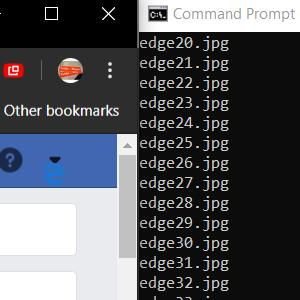edge: (41, 163, 65, 186)
